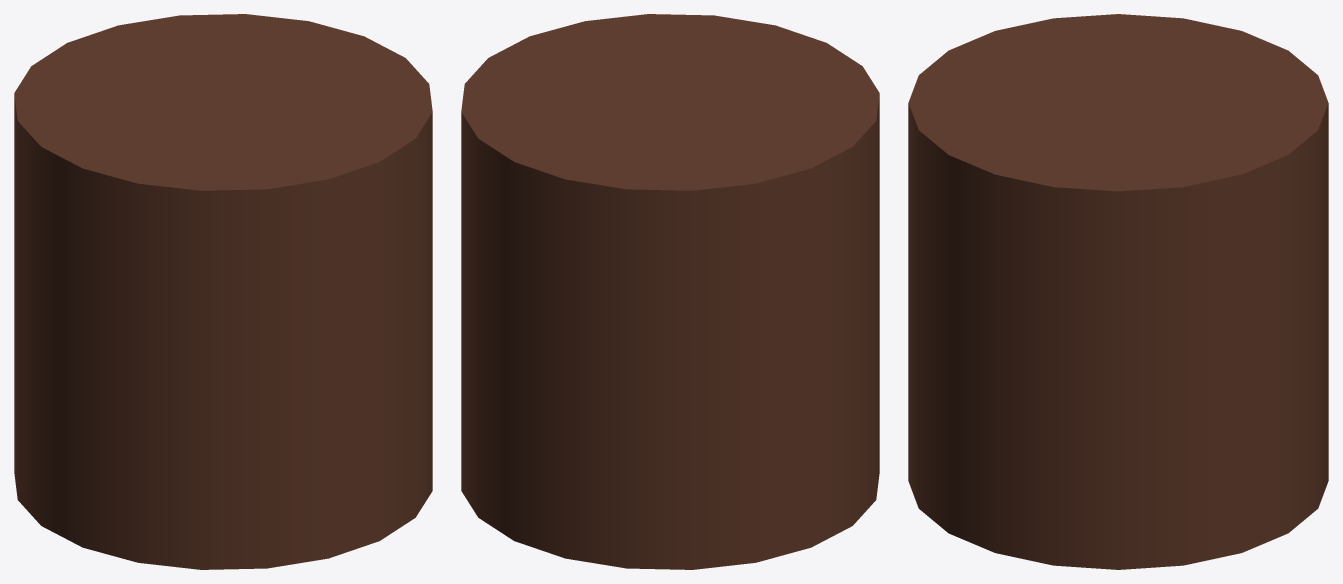
Rendered from barrels.fbx.
3 views of the same model, side by side, from view 1: azimuth 30°, elevation 25°; view 2: azimuth 150°, elevation 25°; view 3: azimuth 270°, elevation 25° (orthographic).
Parts seen in each view (by area): view 1: polySurface56; view 2: polySurface56; view 3: polySurface56.
Boxes of the visible parts, x1,y1,x2,y2 form: polySurface56: [14, 14, 432, 569]; polySurface56: [461, 14, 879, 569]; polySurface56: [908, 14, 1328, 569].
Size of the model in its own units: 144 by 143 by 144.
